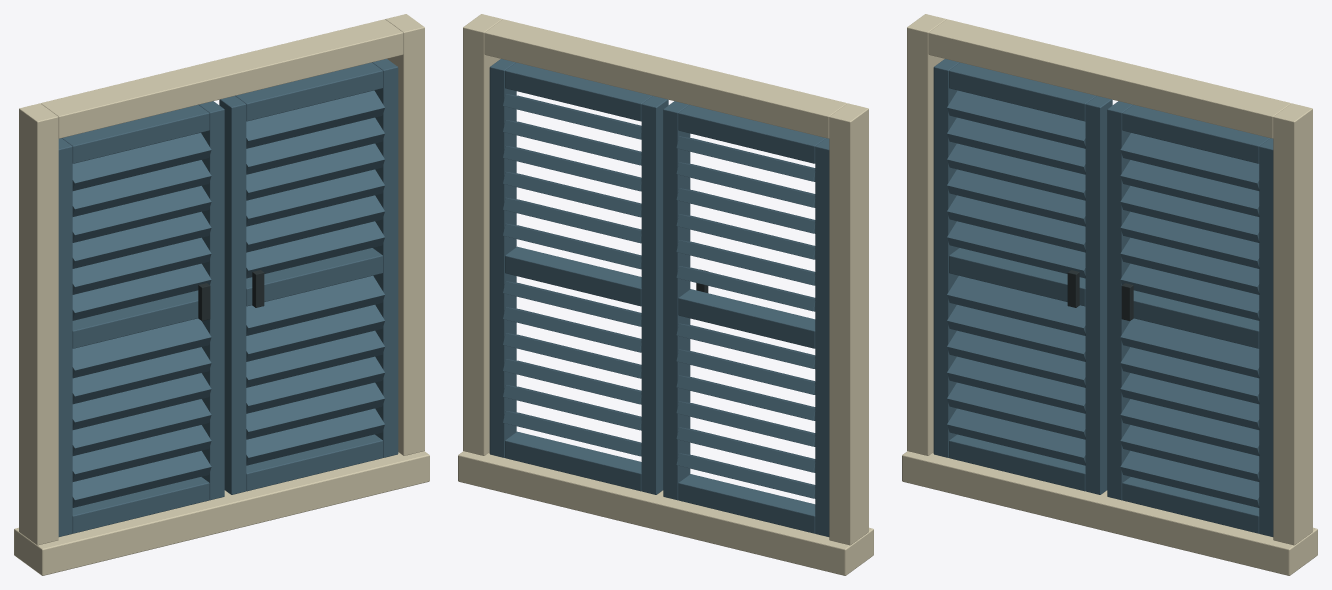
3 renders of one model, left to right at view 1: azimuth 30°, elevation 25°; view 2: azimuth 150°, elevation 25°; view 3: azimuth 330°, elevation 25°, orthographic.
Visible parts, largest first — view 1: FRAME_Jamb, FRAME_Sill, FRAME_Head, FRAME_Jamb.001, Right_Stile.001, Right_Stile, Left_Stile.001, Left_Stile, Left_Louver_5, Left_Rail.002, Right_Louver_5, Right_Rail.002 (+26 smaller); view 2: FRAME_Jamb, FRAME_Sill, FRAME_Head, FRAME_Jamb.001, Right_Stile.001, Right_Stile, Left_Stile.001, Left_Stile, Left_Rail, Left_Rail.001, Right_Rail, Right_Rail.001 (+26 smaller); view 3: FRAME_Jamb.001, FRAME_Sill, FRAME_Head, FRAME_Jamb, Left_Stile.001, Left_Stile, Right_Stile.001, Right_Stile, Right_Louver_5, Right_Rail.002, Left_Louver_5, Left_Rail.002 (+26 smaller).
Part boxes in pixels (left/top/right/bottom): FRAME_Jamb: left=19, top=103, right=58, bottom=545; FRAME_Sill: left=14, top=451, right=429, bottom=575; FRAME_Head: left=41, top=19, right=403, bottom=138; FRAME_Jamb.001: left=385, top=14, right=424, bottom=455; Right_Stile.001: left=219, top=96, right=246, bottom=494; Right_Stile: left=372, top=59, right=398, bottom=457; Left_Stile.001: left=198, top=101, right=224, bottom=500; Left_Stile: left=58, top=138, right=72, bottom=536; Left_Louver_5: left=72, top=318, right=211, bottom=378; Left_Rail.002: left=62, top=105, right=209, bottom=163; Right_Louver_5: left=246, top=275, right=384, bottom=335; Right_Rail.002: left=235, top=62, right=382, bottom=121; FRAME_Jamb: left=829, top=103, right=868, bottom=545; FRAME_Sill: left=458, top=451, right=873, bottom=575; FRAME_Head: left=484, top=19, right=846, bottom=138; FRAME_Jamb.001: left=463, top=14, right=502, bottom=455; Right_Stile.001: left=641, top=96, right=668, bottom=494; Right_Stile: left=489, top=59, right=516, bottom=457; Left_Stile.001: left=663, top=101, right=690, bottom=500; Left_Stile: left=815, top=138, right=829, bottom=536; Left_Rail: left=678, top=474, right=815, bottom=533; Left_Rail.001: left=678, top=289, right=815, bottom=348; Right_Rail: left=505, top=431, right=641, bottom=491; Right_Rail.001: left=505, top=246, right=641, bottom=306; FRAME_Jamb.001: left=1273, top=103, right=1312, bottom=545; FRAME_Sill: left=902, top=451, right=1317, bottom=575; FRAME_Head: left=928, top=19, right=1290, bottom=138; FRAME_Jamb: left=907, top=14, right=946, bottom=455; Left_Stile.001: left=1085, top=96, right=1112, bottom=494; Left_Stile: left=933, top=59, right=959, bottom=457; Right_Stile.001: left=1107, top=101, right=1133, bottom=500; Right_Stile: left=1259, top=138, right=1273, bottom=536; Right_Louver_5: left=1120, top=318, right=1259, bottom=378; Right_Rail.002: left=1122, top=105, right=1269, bottom=163; Left_Louver_5: left=947, top=275, right=1085, bottom=335; Left_Rail.002: left=949, top=62, right=1096, bottom=121.
Size of the model in its own units: 1.8 by 2 by 0.23.
